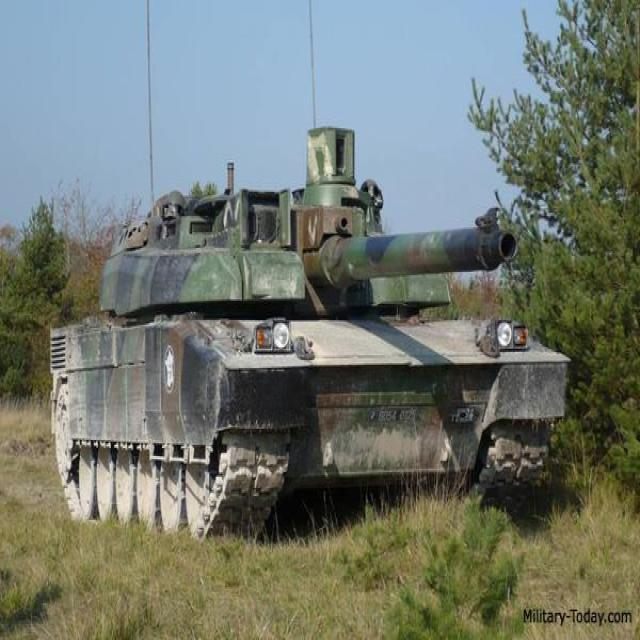MIL_MBT: (28, 58, 571, 590)
